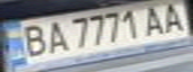1: (118, 7, 145, 39)
7: (66, 15, 90, 49), (87, 11, 109, 46), (103, 8, 124, 43)
A: (157, 1, 190, 34), (139, 2, 169, 37), (42, 18, 69, 54)
B: (15, 21, 51, 57)
